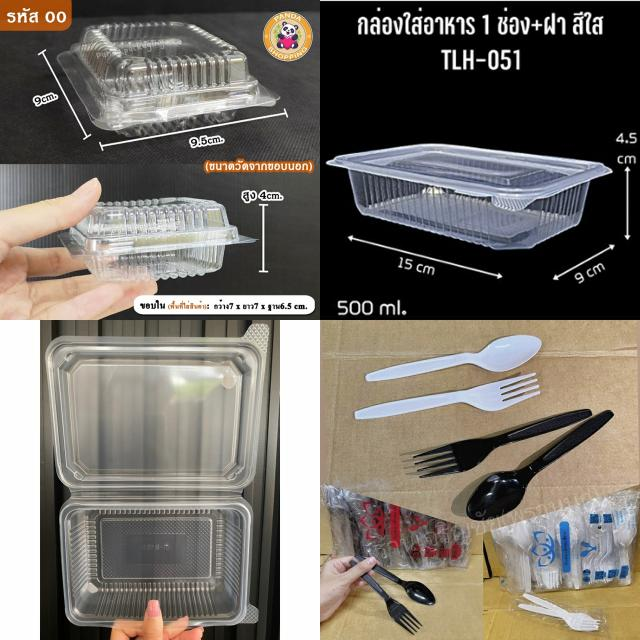Single-Use-Plastic: (46, 324, 269, 626), (328, 144, 611, 250), (58, 21, 276, 136), (466, 410, 614, 521), (59, 198, 254, 281), (412, 409, 591, 478), (354, 372, 540, 420), (365, 335, 541, 381), (361, 572, 421, 634), (519, 594, 600, 631), (372, 565, 434, 605), (489, 373, 536, 390)
